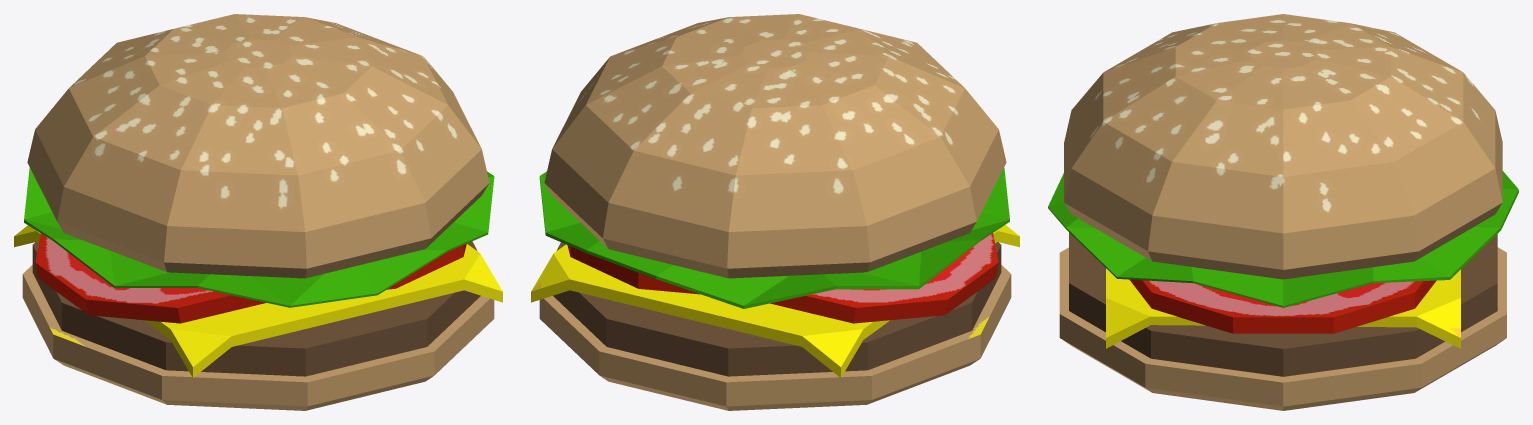
Rendered from burger.obj.
3 renders of one model, left to right at view 1: azimuth 30°, elevation 25°; view 2: azimuth 150°, elevation 25°; view 3: azimuth 270°, elevation 25°, orthographic.
Parts seen in each view (by area): view 1: buns_Vert.001; view 2: buns_Vert.001; view 3: buns_Vert.001.
Boxes of the visible parts, x1,y1,x2,y2 form: buns_Vert.001: [14, 14, 502, 410]; buns_Vert.001: [531, 14, 1019, 410]; buns_Vert.001: [1048, 14, 1518, 410].
Size of the model in its own units: 2.25 by 1.38 by 2.25.
1 material, 1 textured.
